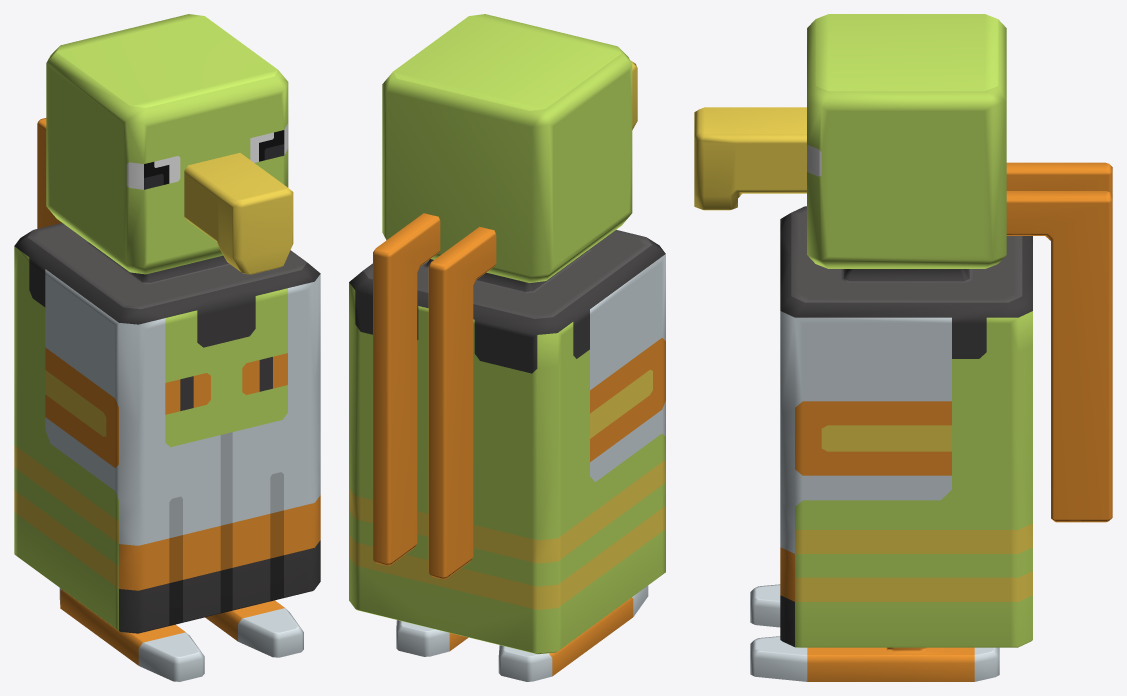
Rendered from model_shiny.obj.
The picture shows the model from 3 angles, left to right: view 1: azimuth 30°, elevation 25°; view 2: azimuth 150°, elevation 25°; view 3: azimuth 270°, elevation 25°; orthographic projection. The views are drawn at different scales.
Visible parts, largest first — view 1: 0178_xatu_shiny; view 2: 0178_xatu_shiny; view 3: 0178_xatu_shiny.
Boxes of the visible parts, left/top/right/bottom form: 0178_xatu_shiny: left=14, top=14, right=320, bottom=681; 0178_xatu_shiny: left=349, top=14, right=665, bottom=681; 0178_xatu_shiny: left=694, top=14, right=1112, bottom=681.
Size of the model in its own units: 1.19 by 3.11 by 2.
Materials: 1 (1 with a texture image).
